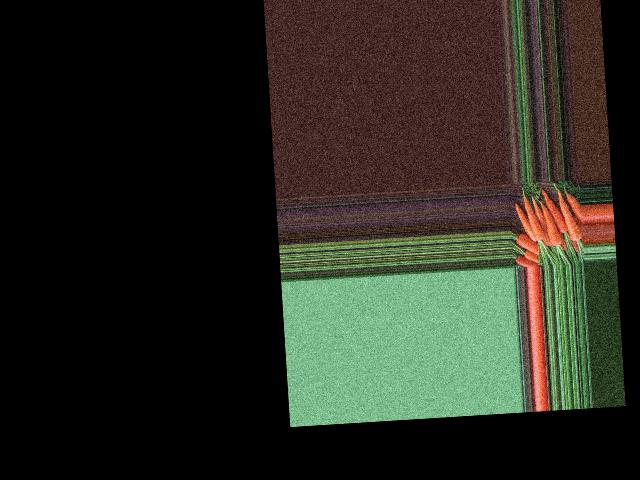carrot: (560, 183, 582, 246)
